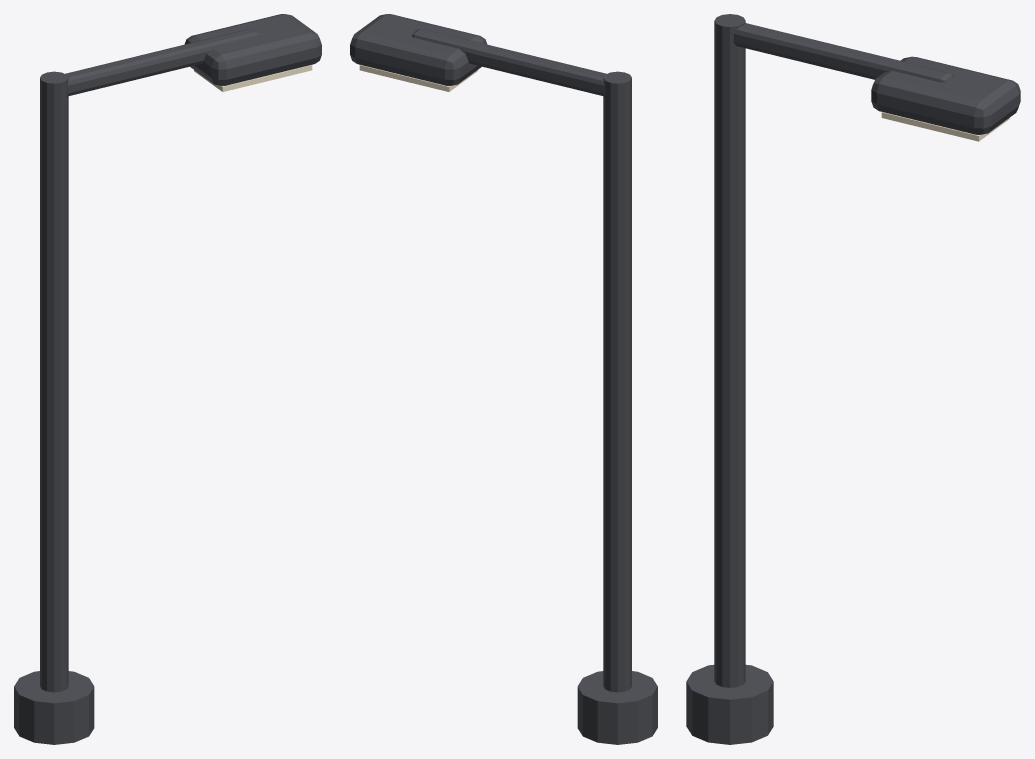
The model's file is LampA.fbx.
3 renders of one model, left to right at view 1: azimuth 30°, elevation 25°; view 2: azimuth 150°, elevation 25°; view 3: azimuth 330°, elevation 25°, orthographic. The views are drawn at different scales.
Parts seen in each view (by area): view 1: Dark, Glow; view 2: Dark, Glow; view 3: Dark, Glow.
Part boxes in pixels (box(x1,y1,x2,y2)): Dark: box(14, 14, 321, 744); Glow: box(194, 65, 312, 91); Dark: box(350, 14, 657, 744); Glow: box(359, 65, 477, 91); Dark: box(686, 14, 1020, 744); Glow: box(881, 112, 1009, 141).
Size of the model in its own units: 580 by 1250 by 140.
